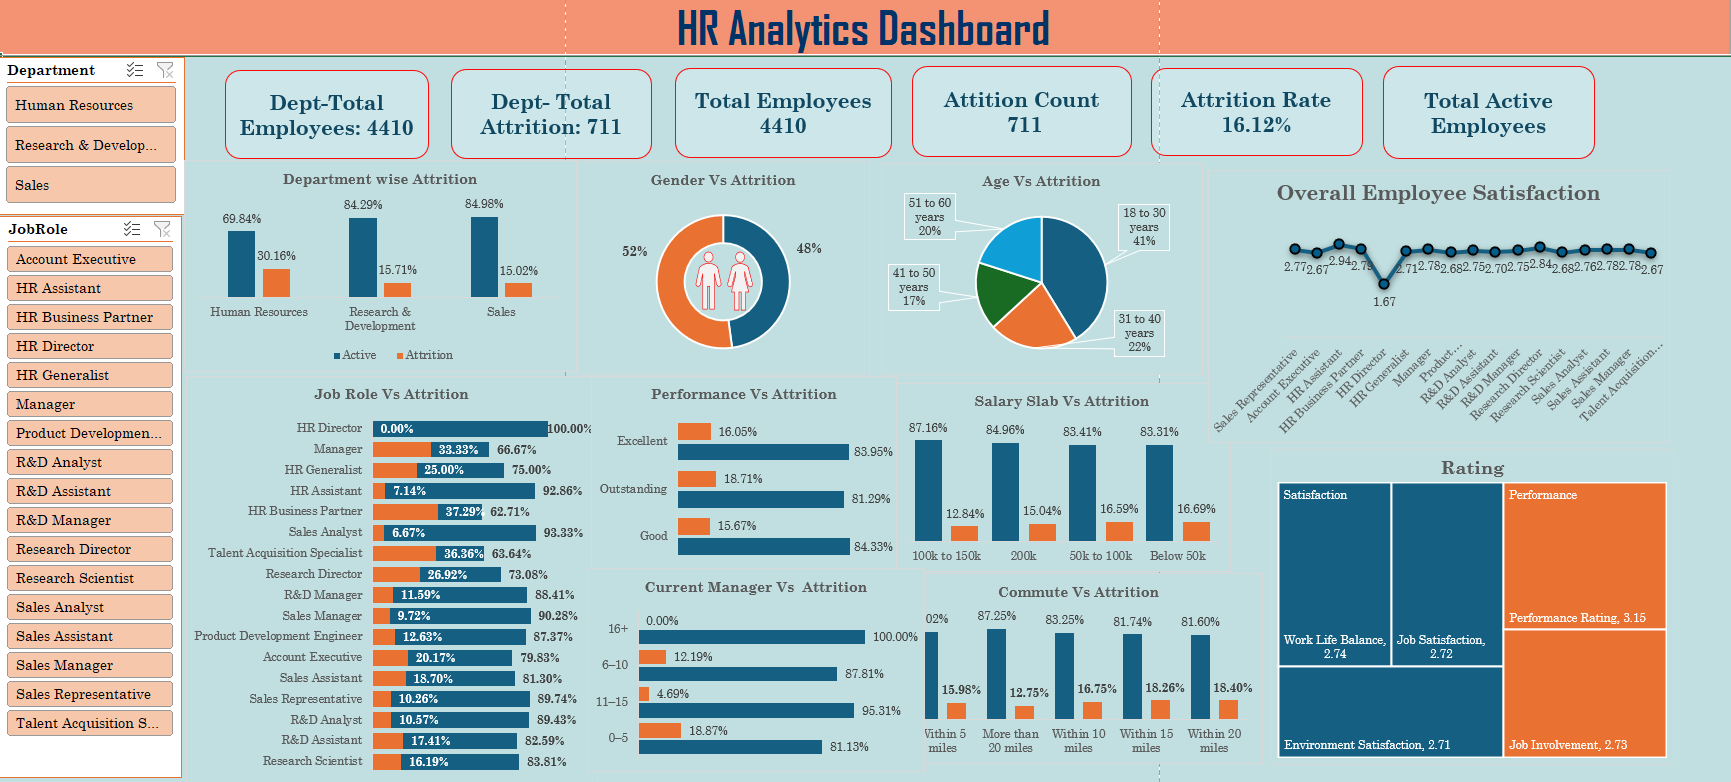

What the dashboard file says about the page in this screenshot:
{"tool":"powerbi","page":{"name":"Page 1","canvas":[1280,720],"ordinal":0},"visuals":[{"type":"cardVisual","fields":{"Data":["Employee Details.Total Headcount","Employee Details.Active Headcount","Employee Details.Attrition Count"]},"box":[0,65.9,170.6,274.1],"z":0},{"type":"clusteredColumnChart","title":"Department Vs Attrition","fields":{"Category":["Employee Details.Department"],"Y":["Employee Details.Active %","Employee Details.Dept Attrition %"]},"box":[170.6,65.9,445.9,241.2],"z":1000},{"type":"cardVisual","fields":{"Data":["Employee Details.Dept Attrition %"]},"box":[0,340,171.8,116.5],"z":2000},{"type":"treemap","fields":{"Values":["Avg(Employee Rating.Environment Satisfaction)","Avg(Employee Rating.Job Satisfaction)","Avg(Employee Rating.Work Life Balance)","Avg(Manager Rating.Job Involvement)","Avg(Manager Rating.Performance Rating)"]},"box":[170.6,305.9,445.9,231.8],"z":3000},{"type":"clusteredBarChart","title":"Job Role Vs Attrition","fields":{"Category":["Employee Details.JobRole"],"Y":["Employee Details.Active %","Employee Details.Dept Attrition %"]},"box":[616.5,65.9,388.2,471.8],"z":4000},{"type":"donutChart","title":"Gender wise Attrition","fields":{"Category":["Employee Details.Gender"],"Y":["Employee Details.Active %"]},"box":[1007.1,65.9,272.9,240],"z":5000},{"type":"clusteredBarChart","title":"Performance Vs Attrition","fields":{"Category":["Employee Details.Performance Score"],"Y":["Employee Details.Active %","Employee Details.Dept Attrition %"]},"box":[1007.1,305.9,272.9,230.6],"z":6000},{"type":"clusteredColumnChart","title":"Salary Vs Attrition","fields":{"Category":["Employee Details.Income Slab"],"Y":["Employee Details.Active %","Employee Details.Dept Attrition %"]},"box":[170.6,537.6,447.1,182.4],"z":7000},{"type":"slicer","fields":{"Values":["Employee Details.Department"]},"box":[0,457,170.9,262.8],"z":8000},{"type":"lineChart","fields":{"Category":["Employee Details.JobRole"],"Y":["Employee Details.Overall Satisfaction"]},"box":[618.8,537.6,661.2,182.4],"z":9000},{"type":"textbox","box":[0,0,1280,65.9],"z":9001}]}

Visuals, with their boxes on the page's 1280x720 design canvas (x1, y1, x2, y2). These are canvas units, not pixel positions in the 1731x782 screenshot, which may show the page scaled, cropped or inside an application window:
cardVisual - Employee Details.Total Headcount x Employee Details.Active Headcount: l=0, t=66, r=171, b=340
"Department Vs Attrition" clusteredColumnChart: l=171, t=66, r=616, b=307
cardVisual - Employee Details.Dept Attrition %: l=0, t=340, r=172, b=456
treemap - Avg(Employee Rating.Environment Satisfaction) x Avg(Employee Rating.Job Satisfaction): l=171, t=306, r=616, b=538
"Job Role Vs Attrition" clusteredBarChart: l=616, t=66, r=1005, b=538
"Gender wise Attrition" donutChart: l=1007, t=66, r=1280, b=306
"Performance Vs Attrition" clusteredBarChart: l=1007, t=306, r=1280, b=536
"Salary Vs Attrition" clusteredColumnChart: l=171, t=538, r=618, b=720
slicer - Employee Details.Department: l=0, t=457, r=171, b=720
lineChart - Employee Details.JobRole x Employee Details.Overall Satisfaction: l=619, t=538, r=1280, b=720
textbox: l=0, t=0, r=1280, b=66
